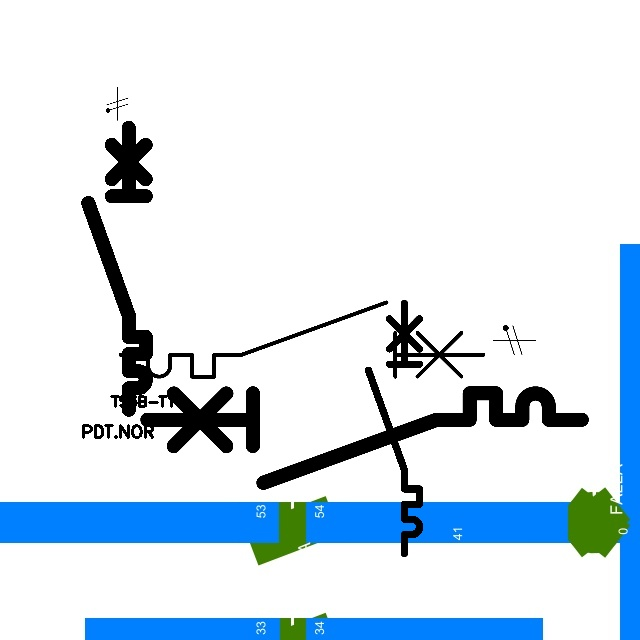interruptor_termomagnetico: (136, 382, 593, 494), (111, 293, 493, 386), (81, 120, 153, 416), (362, 297, 426, 560)
